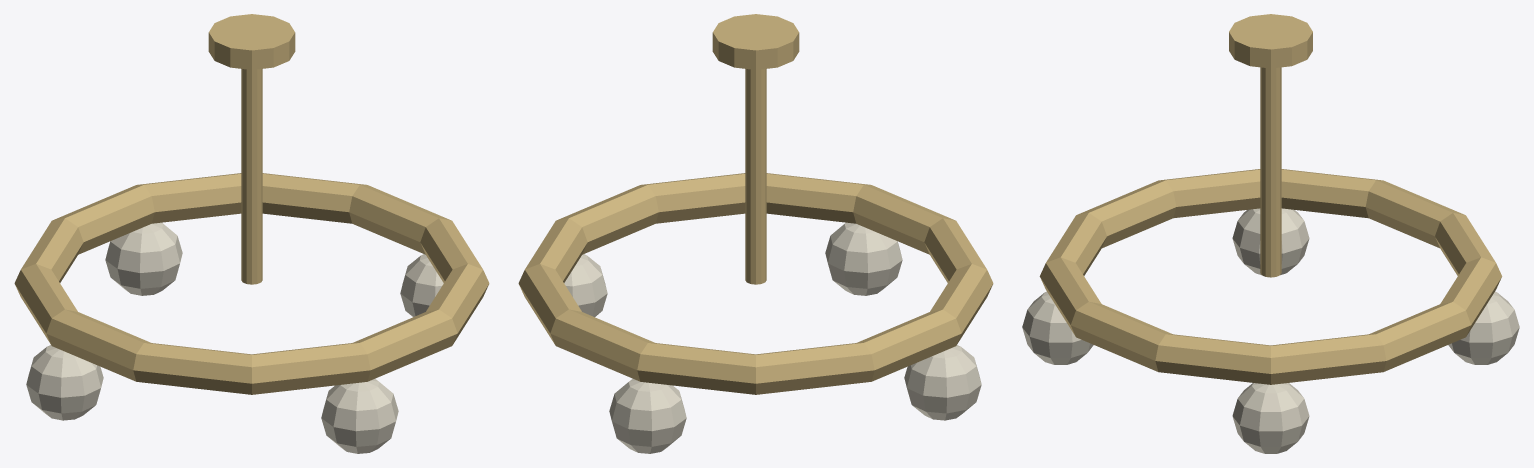
Rendered from ilu_lustre_coz.glb.
The picture shows the model from 3 angles, left to right: view 1: azimuth 30°, elevation 25°; view 2: azimuth 150°, elevation 25°; view 3: azimuth 270°, elevation 25°; orthographic projection. The views are drawn at different scales.
Parts seen in each view (by area): view 1: ILU_Lustre_Coz_v01; view 2: ILU_Lustre_Coz_v01; view 3: ILU_Lustre_Coz_v01.
Part boxes in pixels (x1,y1,x2,y2): ILU_Lustre_Coz_v01: [14, 14, 489, 453]; ILU_Lustre_Coz_v01: [518, 14, 993, 453]; ILU_Lustre_Coz_v01: [1022, 14, 1519, 453].
Size of the model in its own units: 0.7046 by 0.52 by 0.71.
